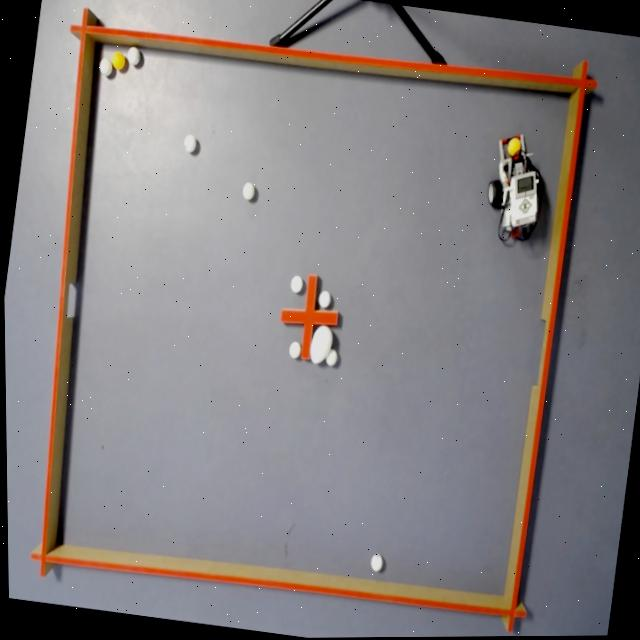boundaries: (26, 2, 598, 634), (57, 43, 568, 594)
cross: (279, 271, 339, 360)
egg: (308, 324, 334, 367)
large_goal: (528, 313, 556, 398)
orange_ball: (507, 137, 523, 158), (111, 51, 127, 71)
robot: (479, 128, 552, 247)
small_goal: (57, 275, 83, 324)
white_ball: (182, 133, 198, 155), (369, 552, 385, 573), (126, 46, 142, 66), (324, 347, 339, 368), (241, 181, 256, 202), (98, 57, 113, 77), (289, 274, 304, 294), (318, 289, 332, 308), (288, 341, 302, 360)
